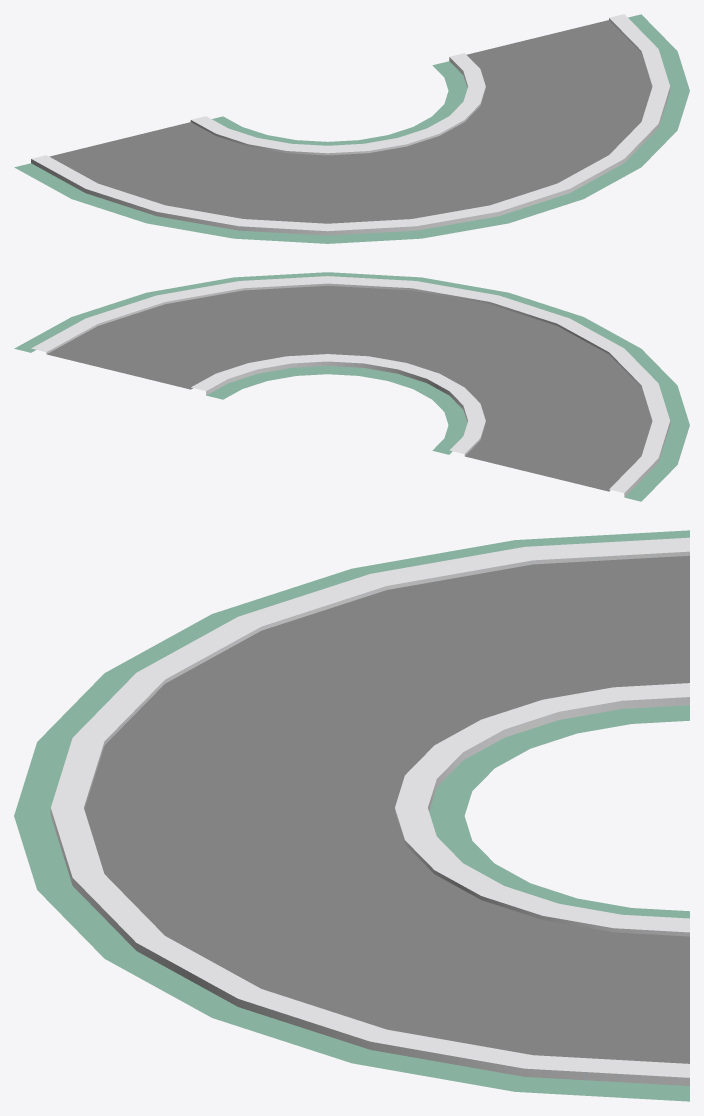
File: road-half-circle.glb
The picture shows the model from 3 angles, top to bottom: view 1: azimuth 30°, elevation 25°; view 2: azimuth 150°, elevation 25°; view 3: azimuth 270°, elevation 25°; orthographic projection. The views are drawn at different scales.
Visible parts, largest first — view 1: roadHalfCircle; view 2: roadHalfCircle; view 3: roadHalfCircle.
Part boxes in pixels (bbox=[...]): roadHalfCircle: bbox=[14, 14, 689, 243]; roadHalfCircle: bbox=[14, 272, 689, 501]; roadHalfCircle: bbox=[14, 530, 689, 1101].
Bounding box in the file's own units: 18 × 0.1209 × 9.
